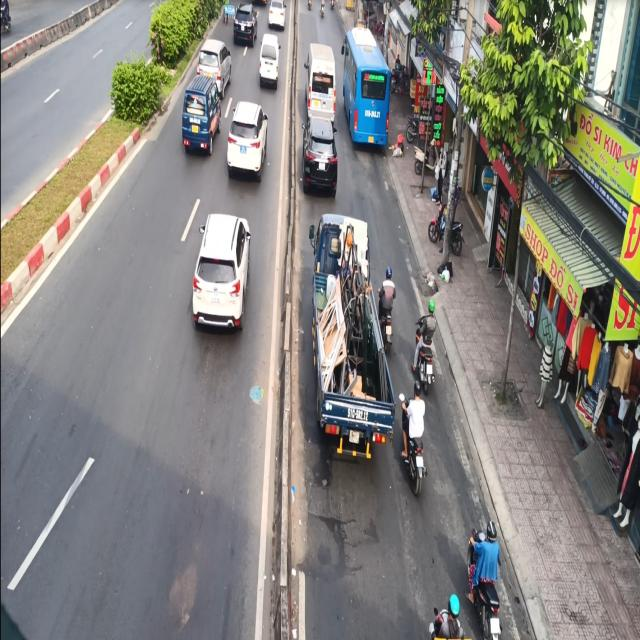bus: (339, 25, 396, 162)
car: (190, 204, 253, 342), (178, 72, 220, 165), (228, 98, 266, 184), (304, 113, 339, 202), (305, 33, 340, 119), (259, 30, 282, 84)
motor: (464, 517, 506, 640), (399, 379, 435, 497), (414, 296, 444, 396)
truck: (306, 210, 395, 464)
